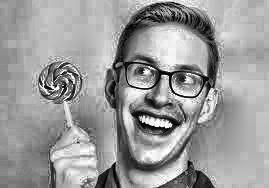happy: (104, 16, 214, 177)
